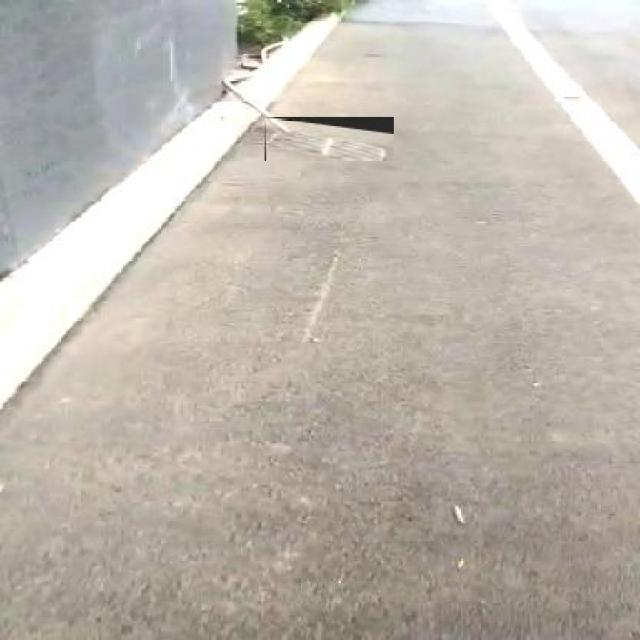Manhole: (264, 117, 394, 160)
